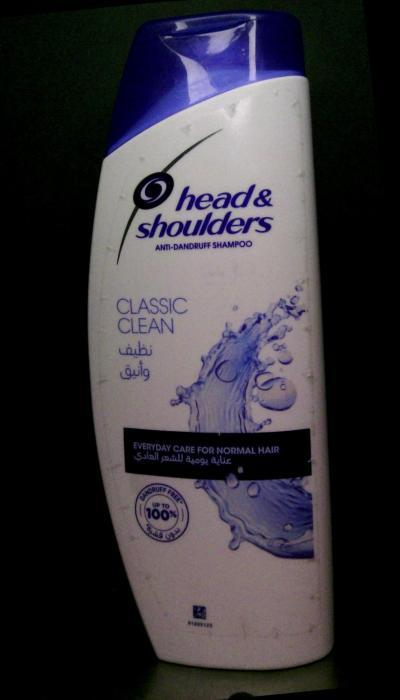tear_marg: (206, 94, 253, 136), (270, 78, 311, 124), (280, 158, 314, 205)
